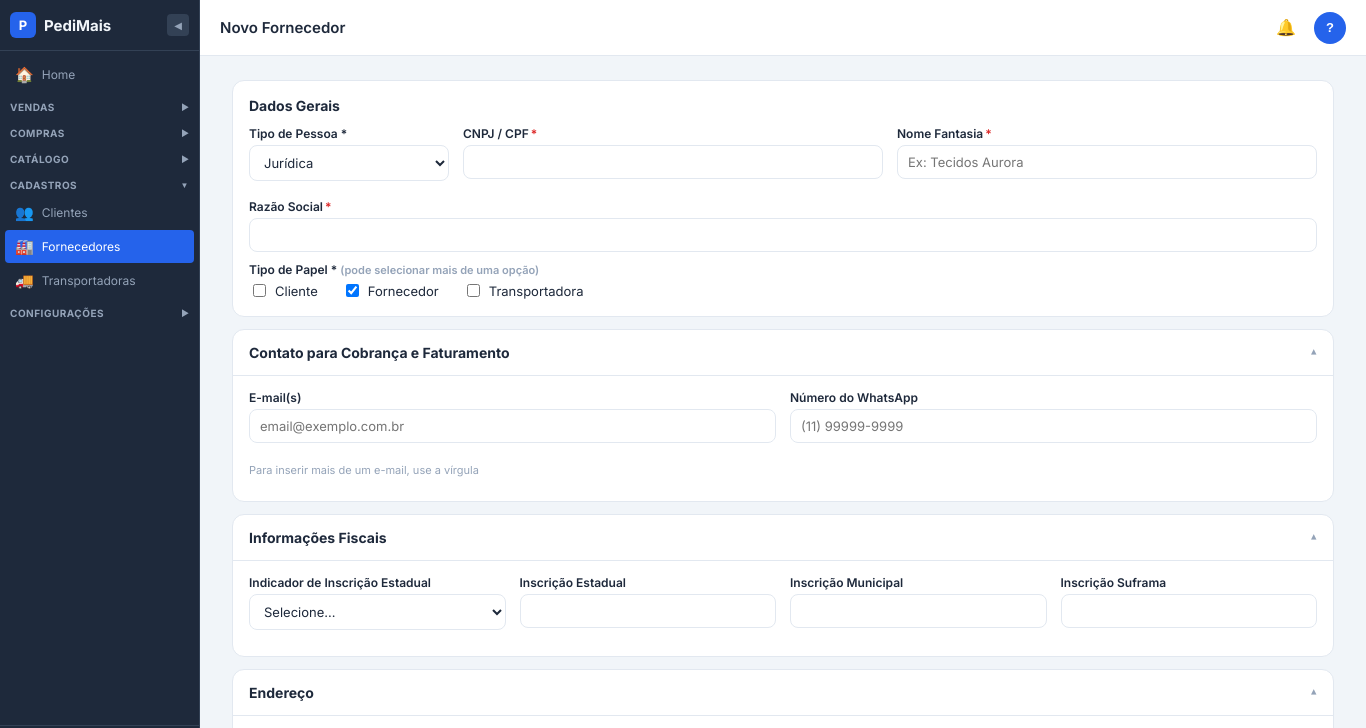
FornecedorFormView › requires at least Cliente or Fornecedor to be selected
The width and height of the screenshot is (1366, 728).
Type "Tecidos Aurora" into the field with test id "nomeFantasia" at (1107, 162), box [897,145,1317,179]
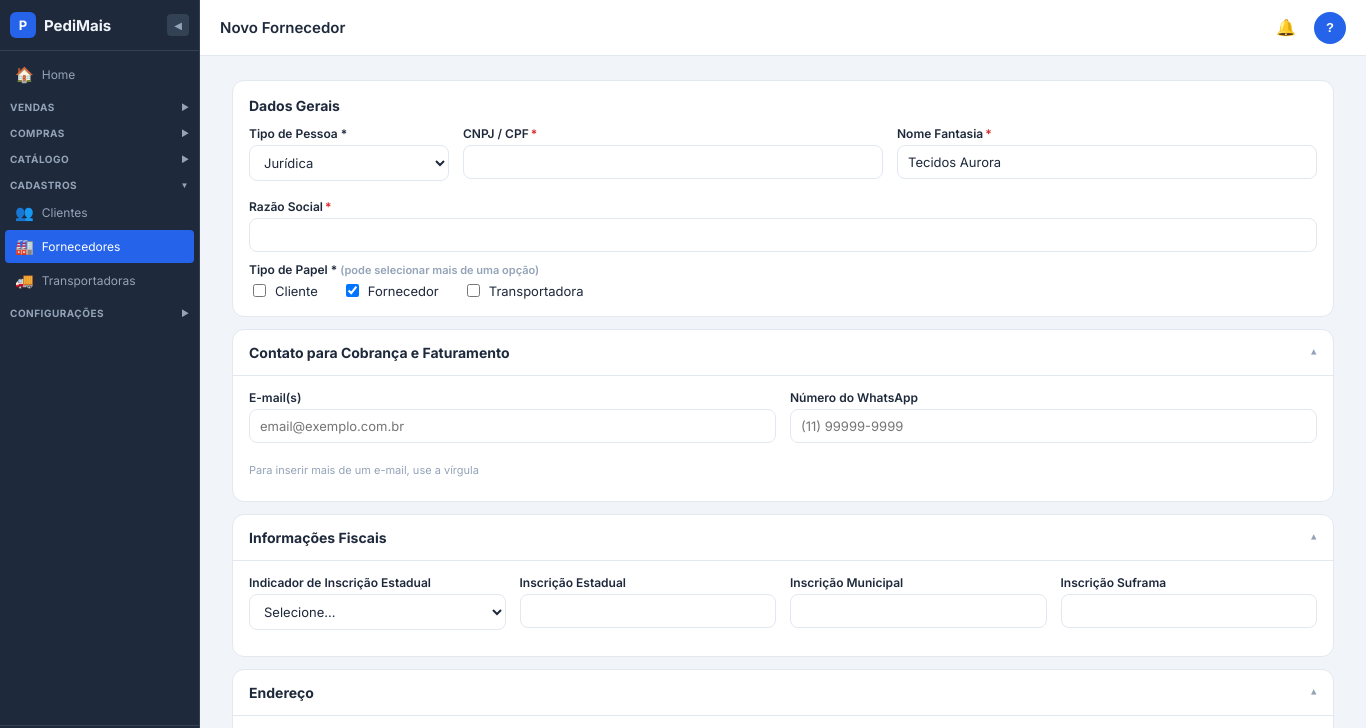
Type "Tecidos Aurora Comércio LTDA" into the field with test id "razaoSocial" at (783, 235), box [249,218,1317,252]
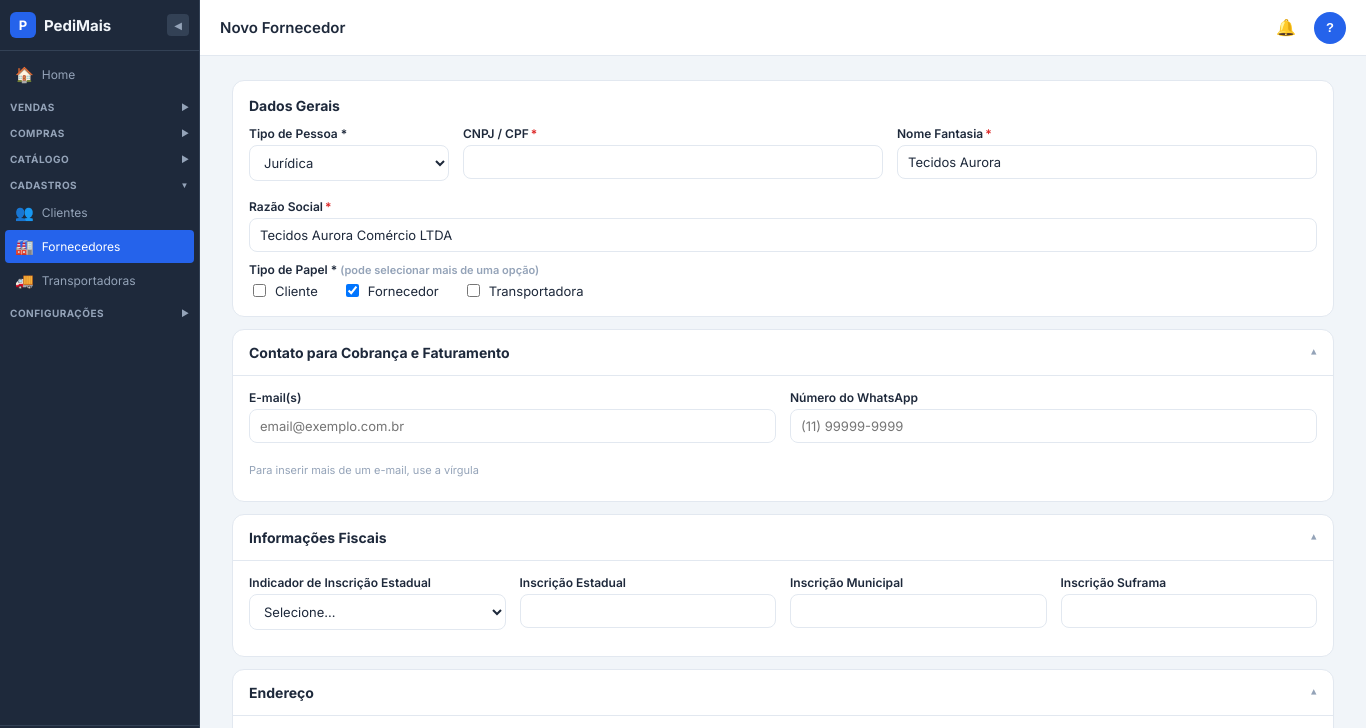
Fornecedor starts checked by default -- unchecking it leaves papeis empty.
Click the checkbox labelled "Fornecedor" at (352, 290), box [346,284,359,297]
(page scrolled)
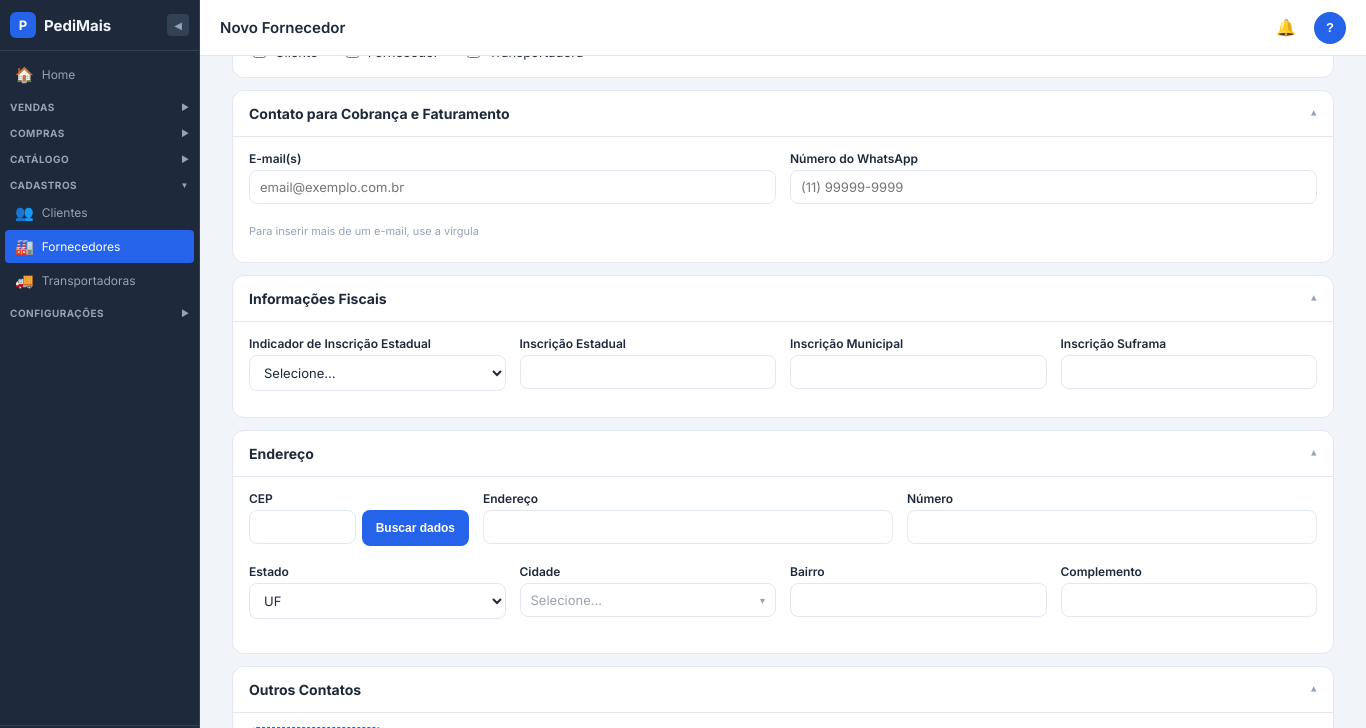
Submit the form
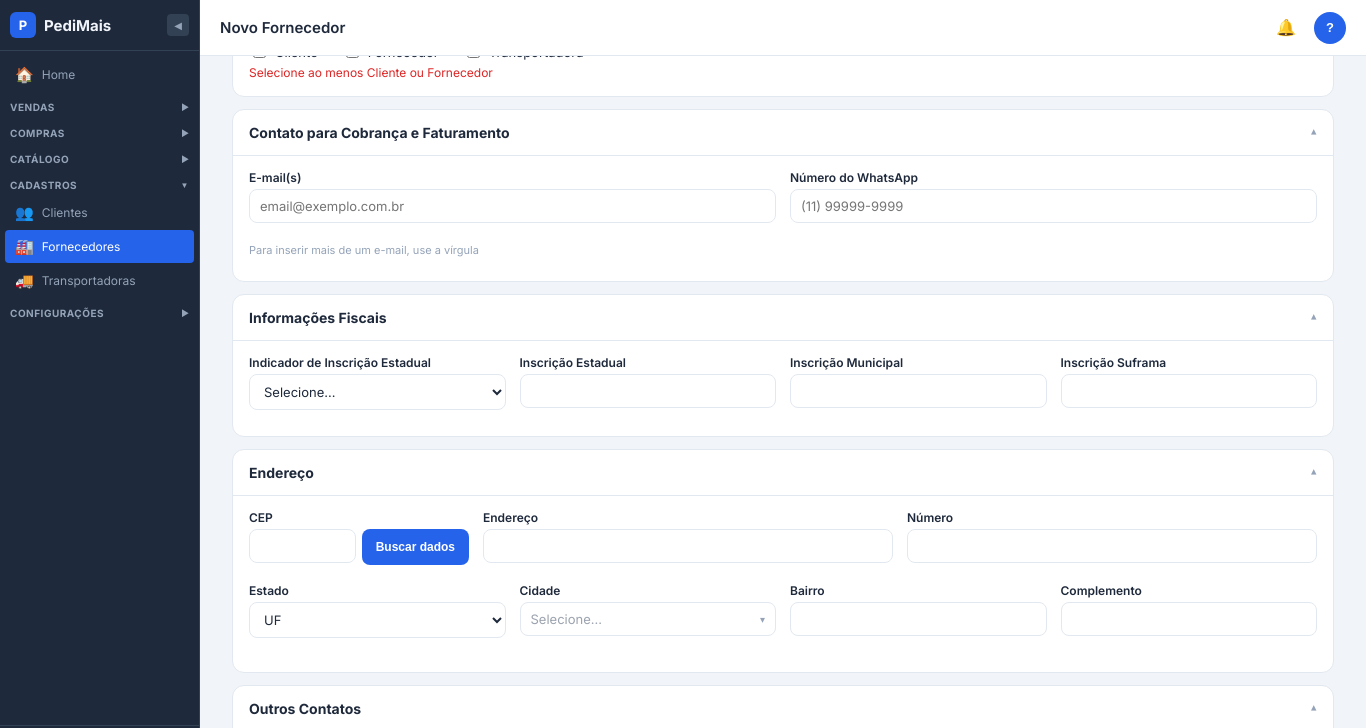
Result: the text "Selecione ao menos Cliente ou Fornecedor" is shown at [249,65,493,80]
